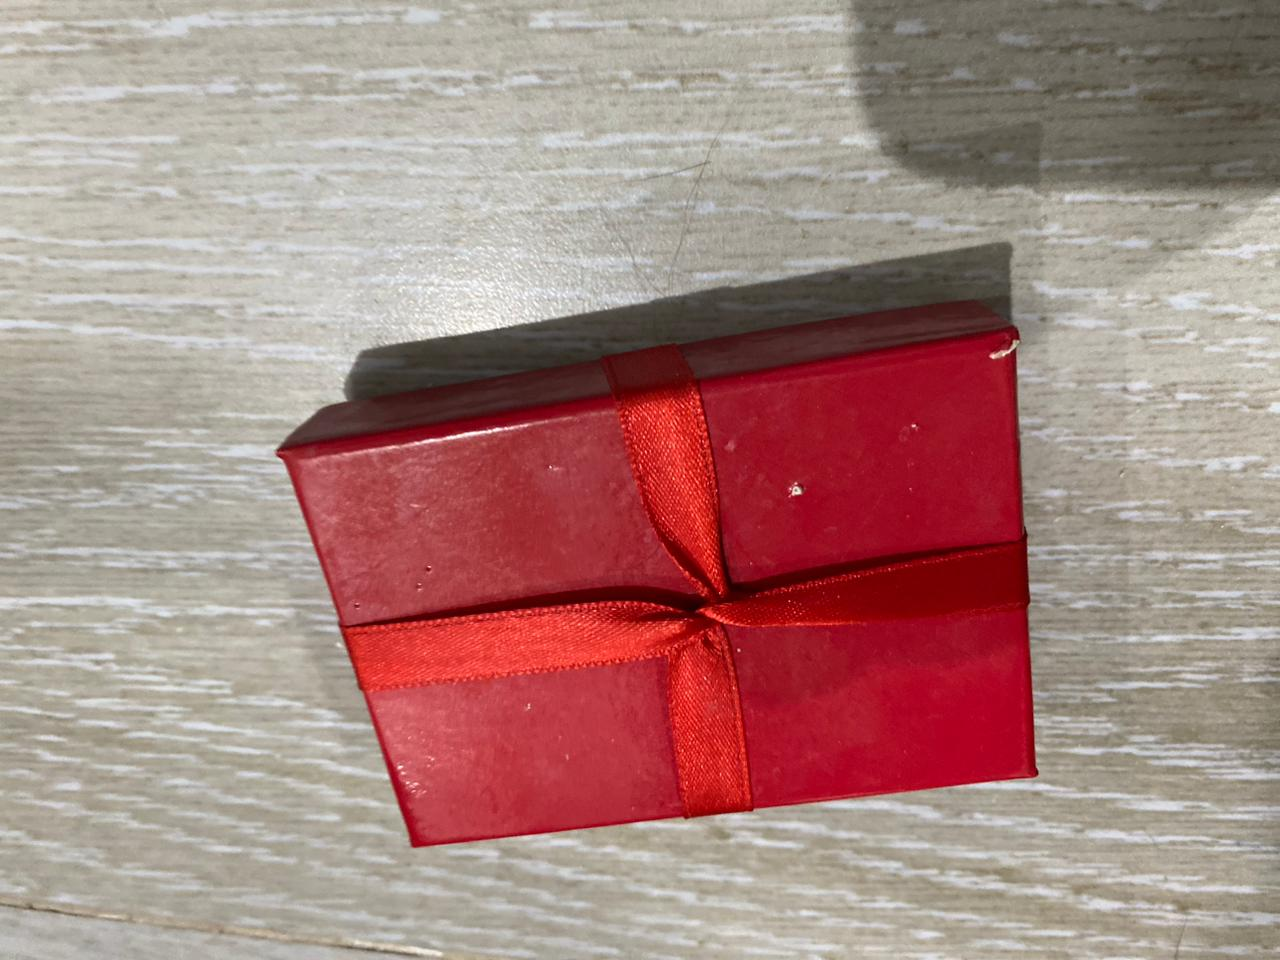Black Box: (276, 299, 1061, 864)
